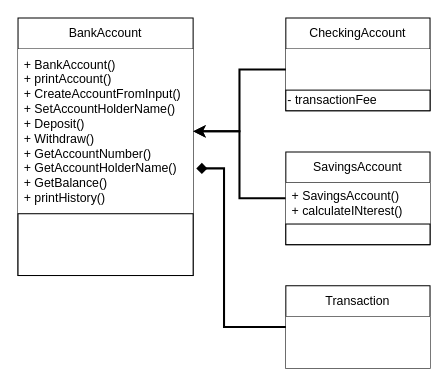
Image size: 448x386. Some labels were removed from this diagram. Each missing label, with the centre of its shape:
"+ CheckingAccount() + Withdraw()" belongs at (x=357, y=69).
"+ type: string + amount: double + timestamp: string" belongs at (x=357, y=342).
"- accountNumber - accountHolderName - Balance - vector<Transactions>" belongs at (x=105, y=244).
"- interestRate" belongs at (x=357, y=234).
